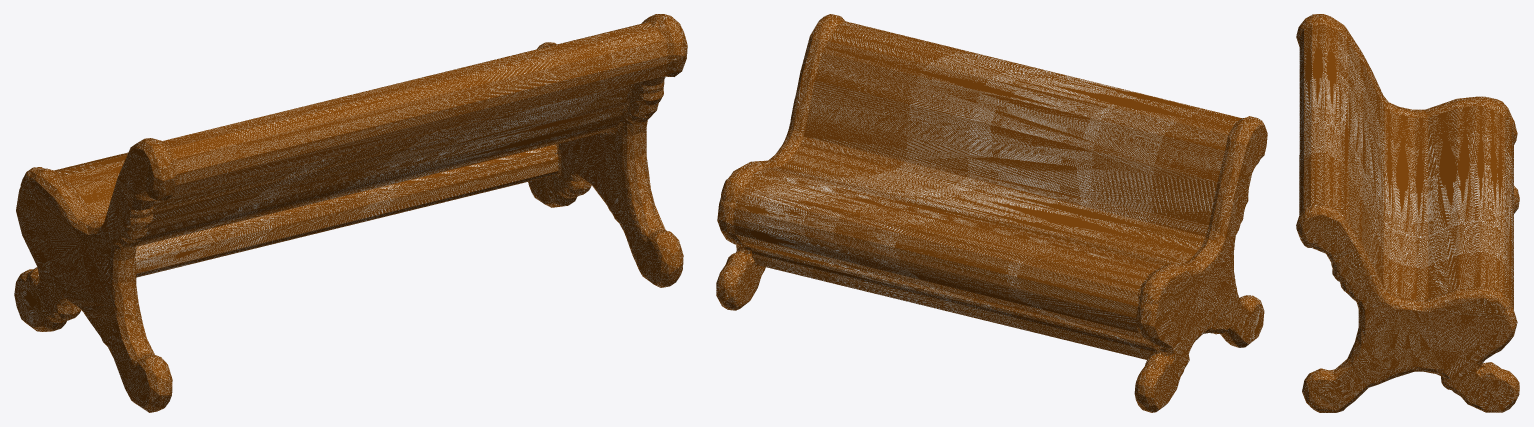
The picture shows the model from 3 angles, left to right: view 1: azimuth 30°, elevation 25°; view 2: azimuth 150°, elevation 25°; view 3: azimuth 270°, elevation 25°; orthographic projection. The views are drawn at different scales.
Visible parts, largest first — view 1: mesh1_mesh1-geometry; view 2: mesh1_mesh1-geometry; view 3: mesh1_mesh1-geometry.
Boxes of the visible parts, left/top/right/bottom form: mesh1_mesh1-geometry: left=14, top=14, right=687, bottom=412; mesh1_mesh1-geometry: left=716, top=14, right=1267, bottom=412; mesh1_mesh1-geometry: left=1296, top=14, right=1519, bottom=412.
Size of the model in its own units: 0.8274 by 0.4009 by 0.3932.
